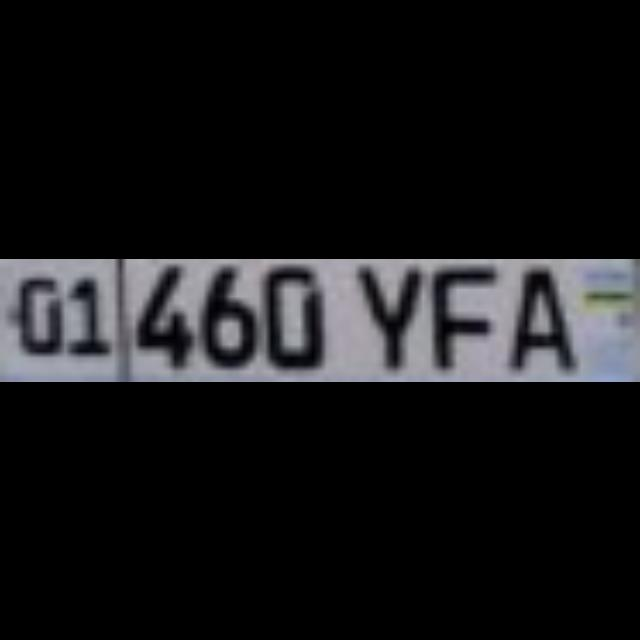0: (255, 258, 317, 362), (14, 272, 54, 348)
1: (63, 265, 104, 341)
4: (130, 258, 186, 354)
6: (193, 258, 255, 362)
A: (502, 258, 572, 368)
F: (427, 258, 489, 368)
Y: (350, 258, 420, 362)
